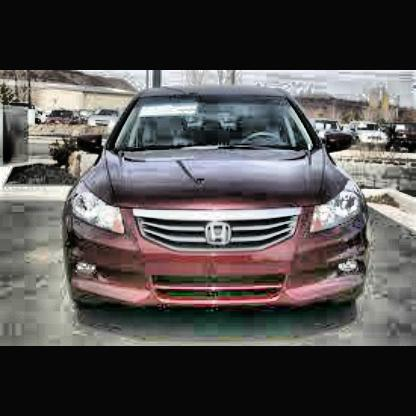Honda Accord Sedan 2012: (64, 90, 372, 329)
